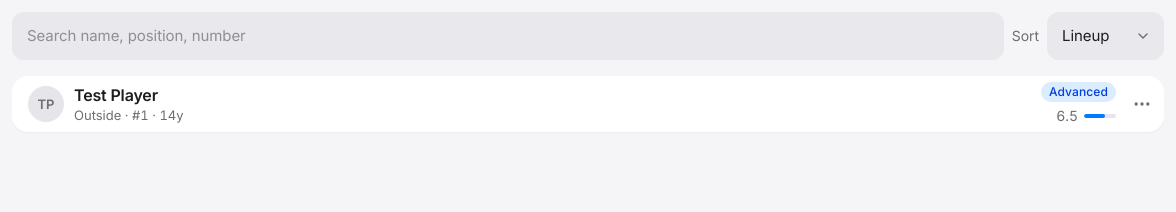
Test case: TeamRosterTable › right-click on a phone row offers Open card, Set as starting and Remove…
Right-click the list item with test id "roster-mobile-card" at (1078, 92), box 12,76 -> 1164,132
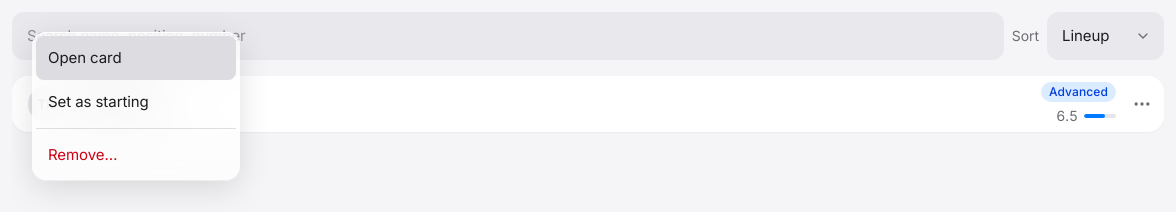
expect the menu items read "Open card", "Set as starting", "Remove…", in this order: met, box 36,36 -> 236,80; 36,80 -> 236,124; 36,133 -> 236,177
